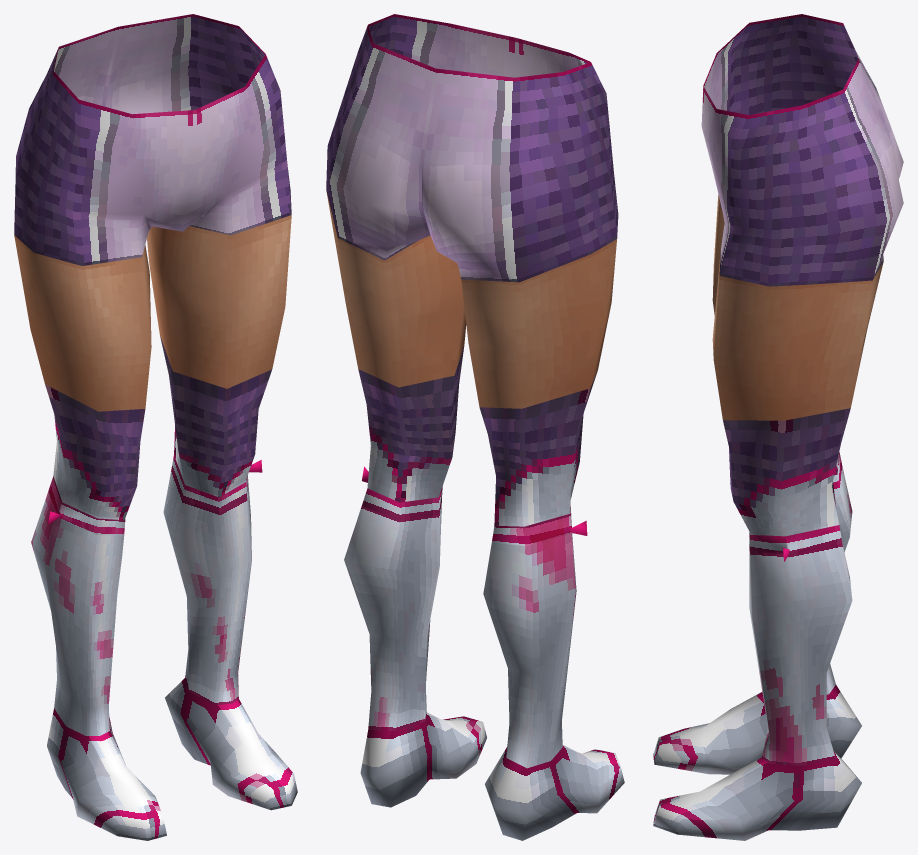
The model's file is f_reg038.glb.
The picture shows the model from 3 angles, left to right: view 1: azimuth 30°, elevation 25°; view 2: azimuth 150°, elevation 25°; view 3: azimuth 270°, elevation 25°; orthographic projection. The views are drawn at different scales.
Size of the model in its own units: 40.71 by 110 by 33.96.
Materials: 2 (2 with a texture image).
